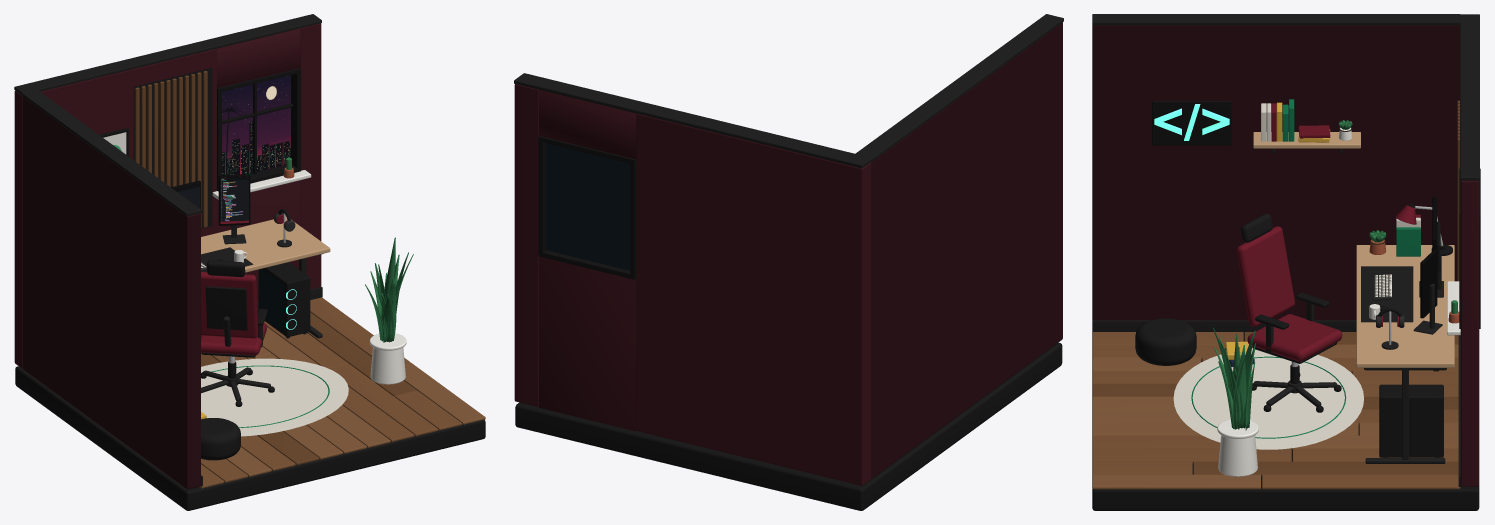
The model's file is diorama.glb.
3 views of the same model, side by side, from view 1: azimuth 30°, elevation 25°; view 2: azimuth 150°, elevation 25°; view 3: azimuth 270°, elevation 25° (orthographic). The views are drawn at different scales.
Visible parts, largest first — view 1: LeftWall, FloorSlab, BackWall_L, Rug, WinView, BackWall_R, SlatFelt, BackCap, DeskTop, BackWall_Top, LeftCap, PcCase (+35 smaller); view 2: BackWall_L, LeftWall, BackWall_Bot, FloorSlab, WinBack, BackWall_R, BackCap, BackWall_Top, LeftCap, WinFrameR, WinFrameL, WinFrameB; view 3: LeftWall, Rug, FloorSlab, DeskTop, BackWall_R, LeftCap, PcCase, ChairBack, BackCap, Plank_11b, Plank_10b, NeonBacker (+40 smaller).
Boxes of the visible parts, <box> form: LeftWall: <box>23,97,200,489</box>; FloorSlab: <box>15,366,485,510</box>; BackWall_L: <box>14,49,216,368</box>; Rug: <box>201,358,348,436</box>; WinView: <box>222,75,290,175</box>; BackWall_R: <box>300,23,321,289</box>; SlatFelt: <box>133,68,212,228</box>; BackCap: <box>14,14,321,94</box>; DeskTop: <box>201,216,330,272</box>; BackWall_Top: <box>216,28,300,87</box>; LeftCap: <box>22,89,201,216</box>; PcCase: <box>258,262,310,337</box>; BackWall_L: <box>636,113,871,485</box>; LeftWall: <box>871,22,1062,478</box>; BackWall_Bot: <box>539,256,636,431</box>; FloorSlab: <box>515,342,1062,510</box>; WinBack: <box>546,143,630,270</box>; BackWall_R: <box>514,84,538,406</box>; BackCap: <box>514,73,871,168</box>; BackWall_Top: <box>539,90,636,159</box>; LeftCap: <box>855,14,1063,161</box>; WinFrameR: <box>538,136,546,256</box>; WinFrameL: <box>630,158,636,279</box>; WinFrameB: <box>538,250,636,279</box>; LeftWall: <box>1092,25,1459,320</box>; Rug: <box>1173,348,1363,449</box>; FloorSlab: <box>1092,332,1479,510</box>; DeskTop: <box>1356,245,1454,367</box>; BackWall_R: <box>1460,180,1479,486</box>; LeftCap: <box>1092,14,1460,25</box>; PcCase: <box>1379,384,1443,457</box>; ChairBack: <box>1236,226,1294,326</box>; BackCap: <box>1460,14,1479,180</box>; Plank_11b: <box>1262,474,1460,489</box>; Plank_10b: <box>1193,461,1458,476</box>; NeonBacker: <box>1152,101,1231,145</box>.
Bounding box in the file's own units: 2.53 × 2.4 × 2.53.
Materials: 43 (4 with a texture image).
